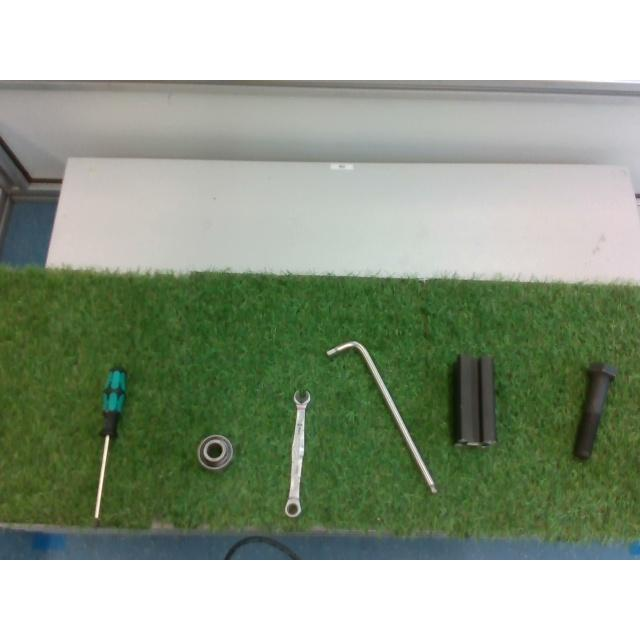AllenKey: (326, 341, 436, 493)
Bearing2: (196, 434, 232, 470)
M20_100: (574, 364, 618, 461)
S40_40_B: (456, 354, 496, 446)
Screwdriver: (94, 365, 126, 523)
Wrench: (284, 391, 310, 517)
